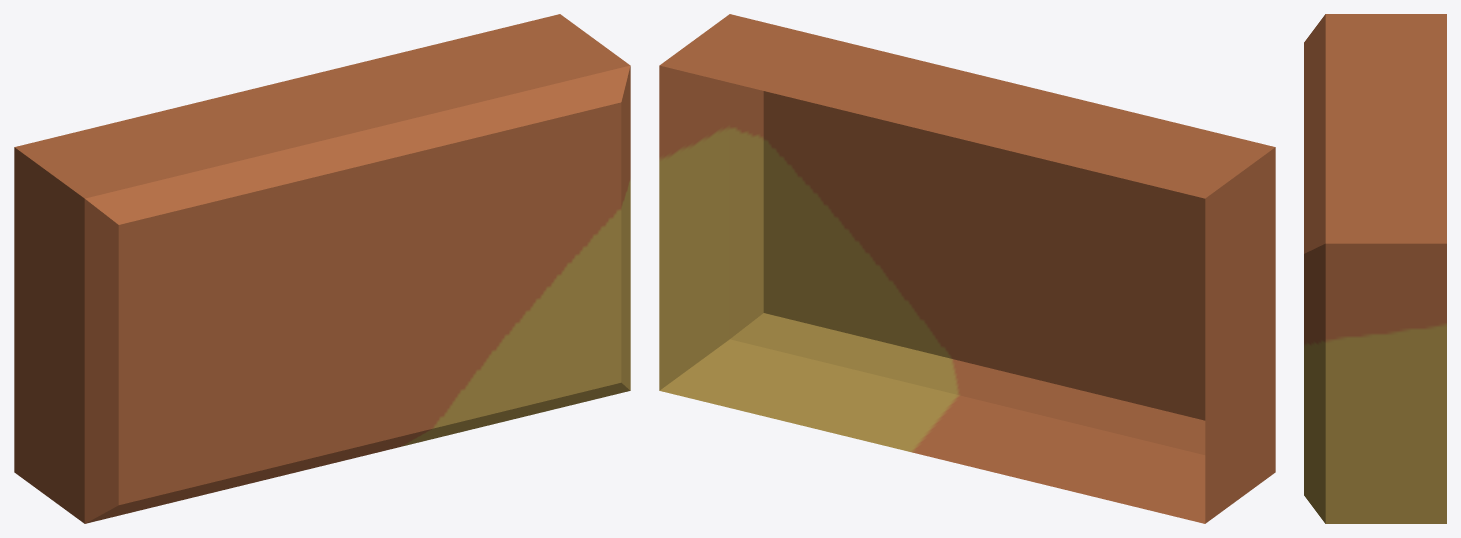
Rendered from SM_ResetButton.fbx.
3 renders of one model, left to right at view 1: azimuth 30°, elevation 25°; view 2: azimuth 150°, elevation 25°; view 3: azimuth 270°, elevation 25°, orthographic. The views are drawn at different scales.
Parts seen in each view (by area): view 1: SM_ResetButt; view 2: SM_ResetButt; view 3: SM_ResetButt.
Boxes of the visible parts, left/top/right/bottom form: SM_ResetButt: left=14, top=14, right=630, bottom=523; SM_ResetButt: left=659, top=14, right=1275, bottom=523; SM_ResetButt: left=1304, top=14, right=1446, bottom=523.
Size of the model in its own units: 50 by 28.48 by 13.14.
